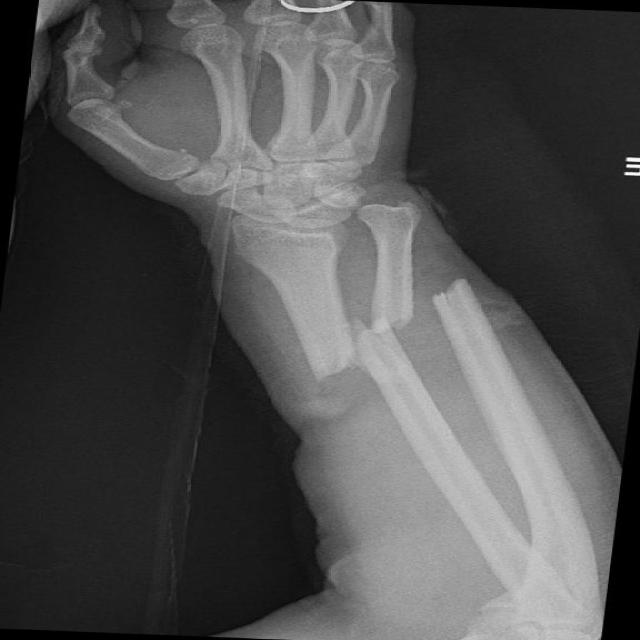Transverse: (372, 268, 488, 348), (301, 305, 402, 393)
